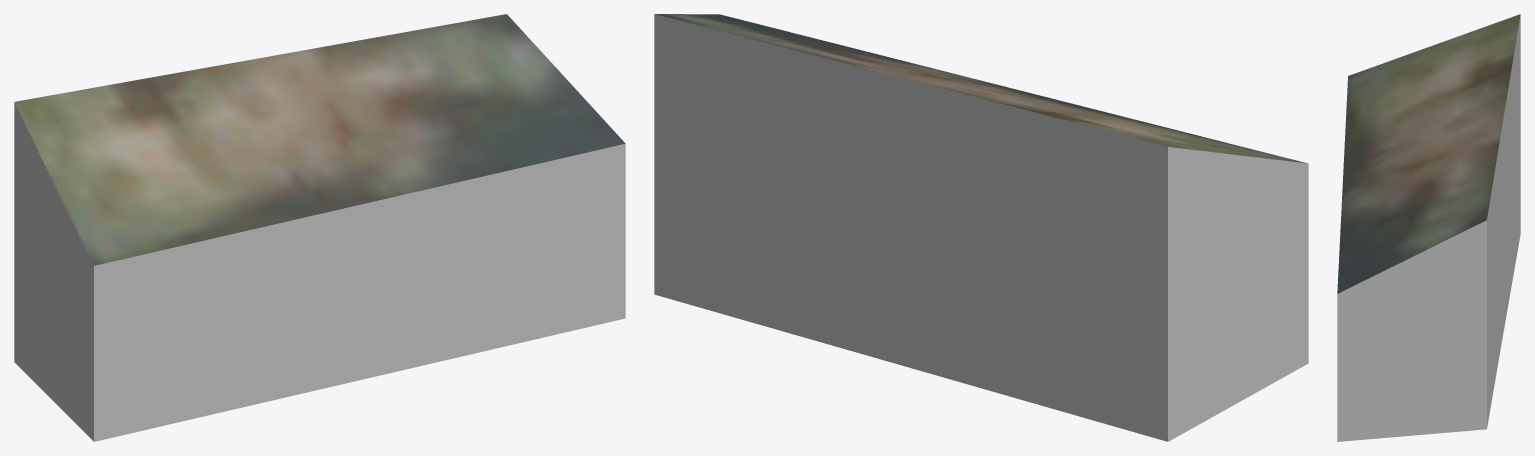
Rendered from DEBW_0010007Tx3G.gltf.
3 views of the same model, side by side, from view 1: azimuth 30°, elevation 25°; view 2: azimuth 150°, elevation 25°; view 3: azimuth 270°, elevation 25° (orthographic). The views are drawn at different scales.
Parts seen in each view (by area): view 1: Z_UP; view 2: Z_UP; view 3: Z_UP.
Boxes of the visible parts, x1,y1,x2,y2 form: Z_UP: [14, 14, 625, 441]; Z_UP: [654, 14, 1308, 441]; Z_UP: [1337, 14, 1520, 441].
Size of the model in its own units: 10.5 by 4.97 by 3.75.
Materials: 2 (1 with a texture image).
